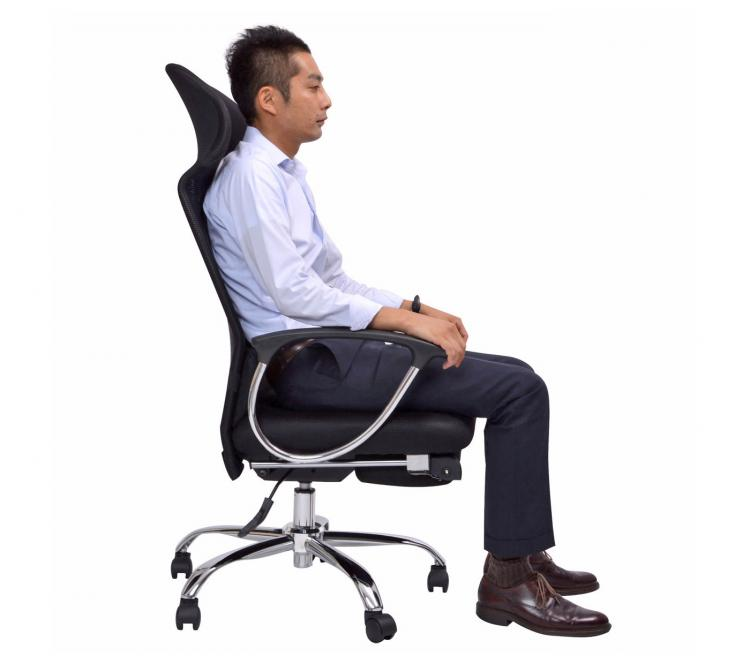chairs: (119, 64, 468, 650)
